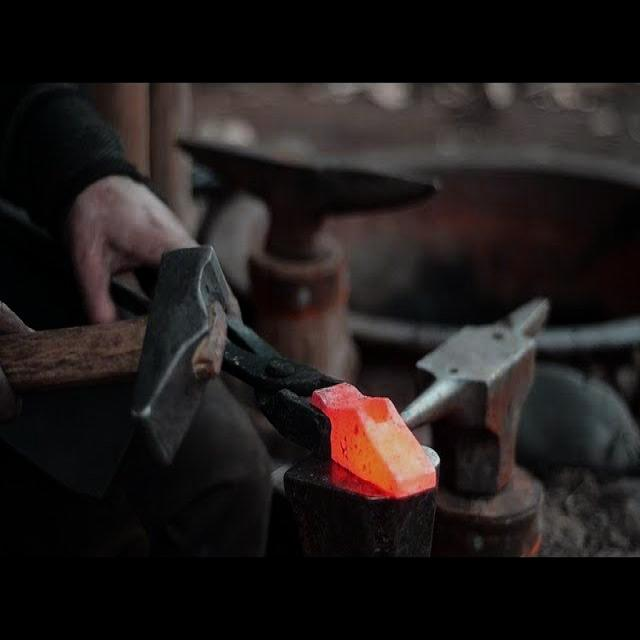hammer: (0, 237, 238, 476)
